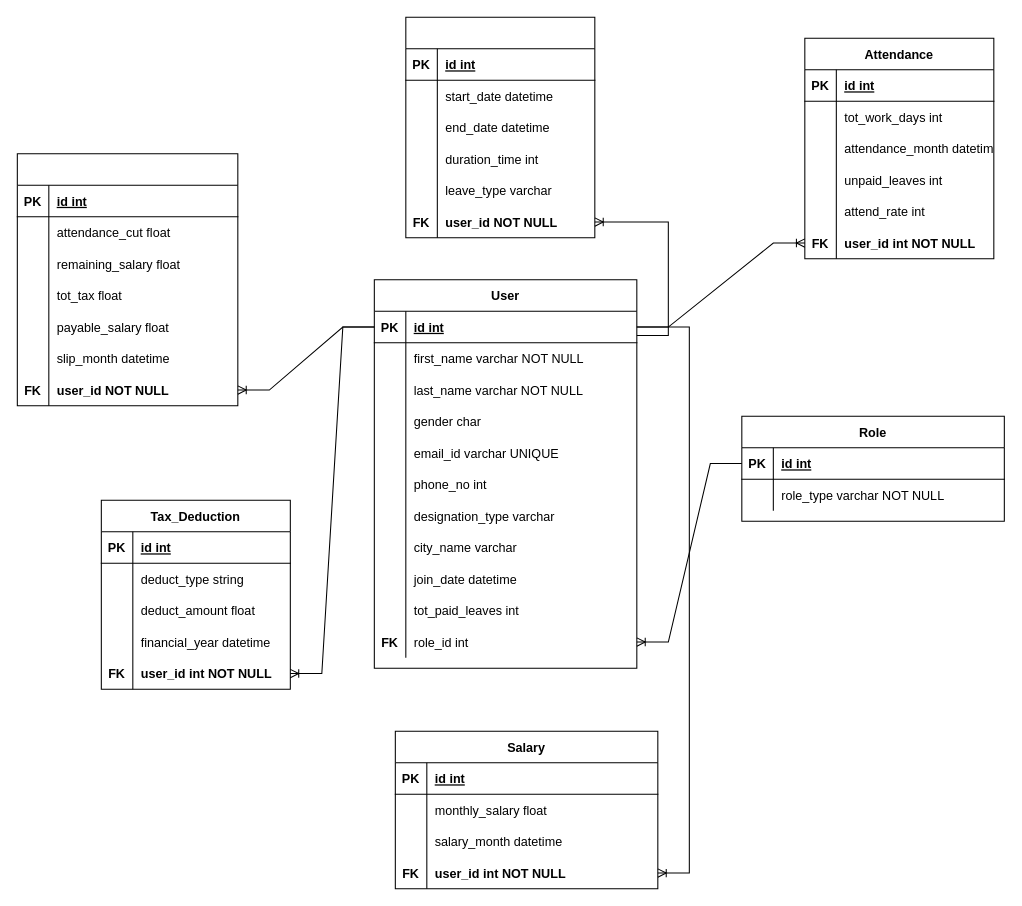
This 1022x906 diagram has some shape labels left out. The shapes that lost their labels are listed below. From the top down, each one's box as (x1, y1, x2, y2) in pixels, then its label:
(405, 16, 595, 238): Leaves
(16, 153, 238, 406): Payslip
